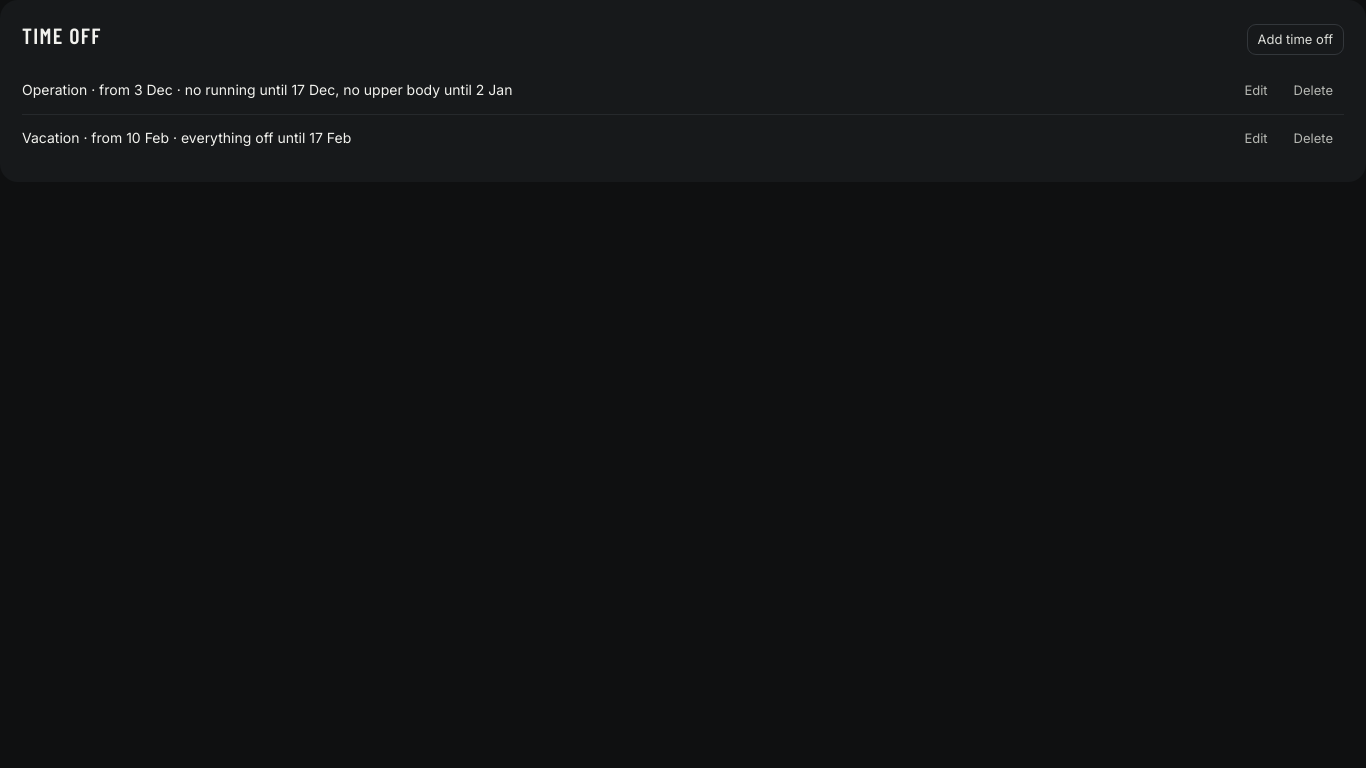
Test: TimeOffCard › asks for something to be off before saving
Click the button "Add time off" at (1295,39), box top-left (1246, 24), bottom-right (1344, 55)
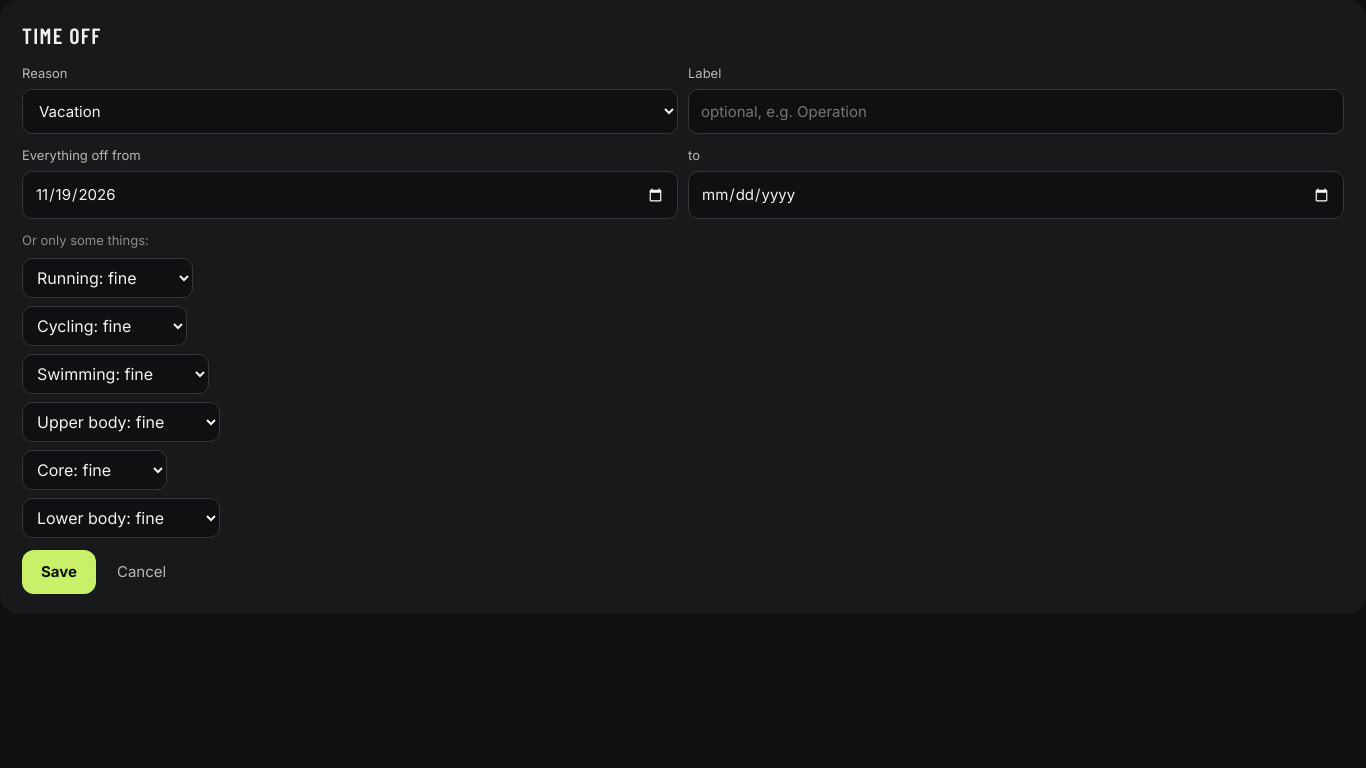
Select "Injury or operation" in the dropdown labelled "Reason" at (350,112), box top-left (22, 89), bottom-right (678, 134)
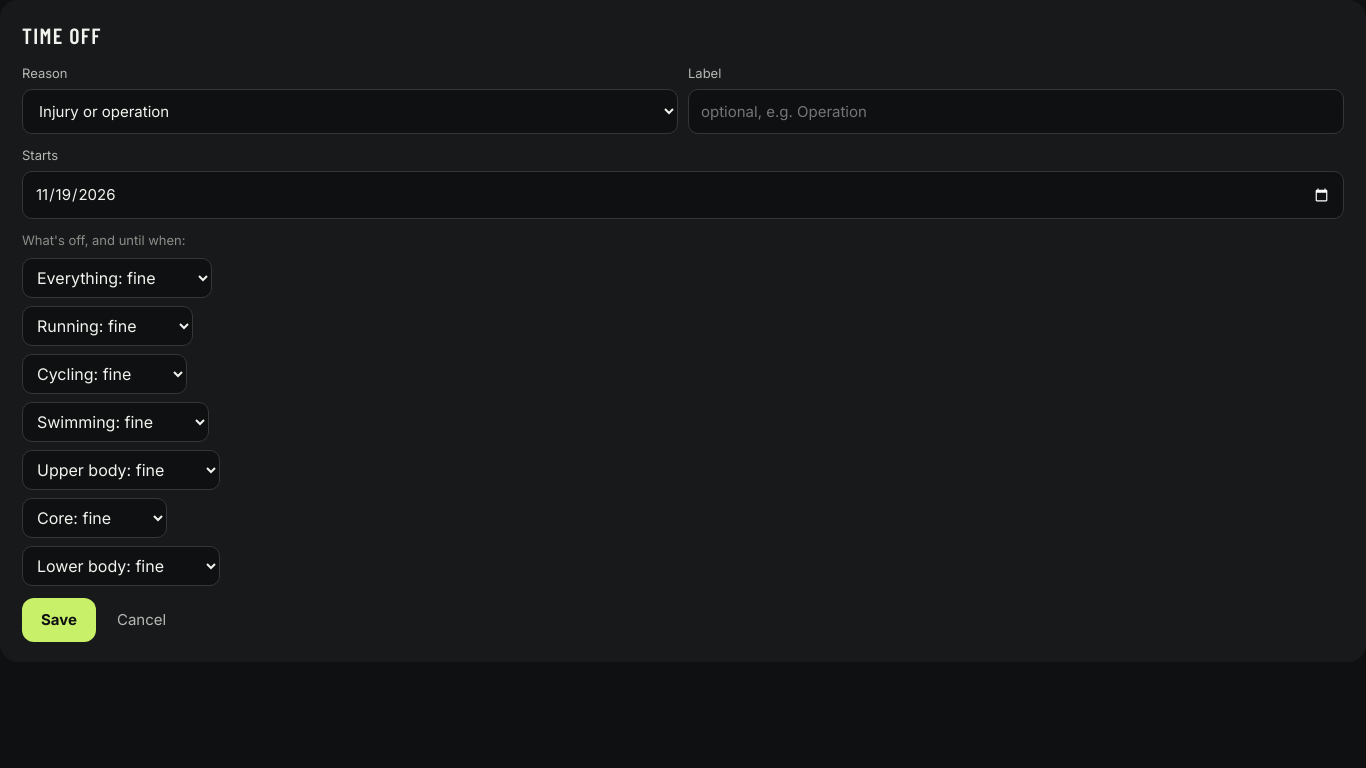
Click the button "Save" at (59,620), box top-left (22, 598), bottom-right (96, 642)
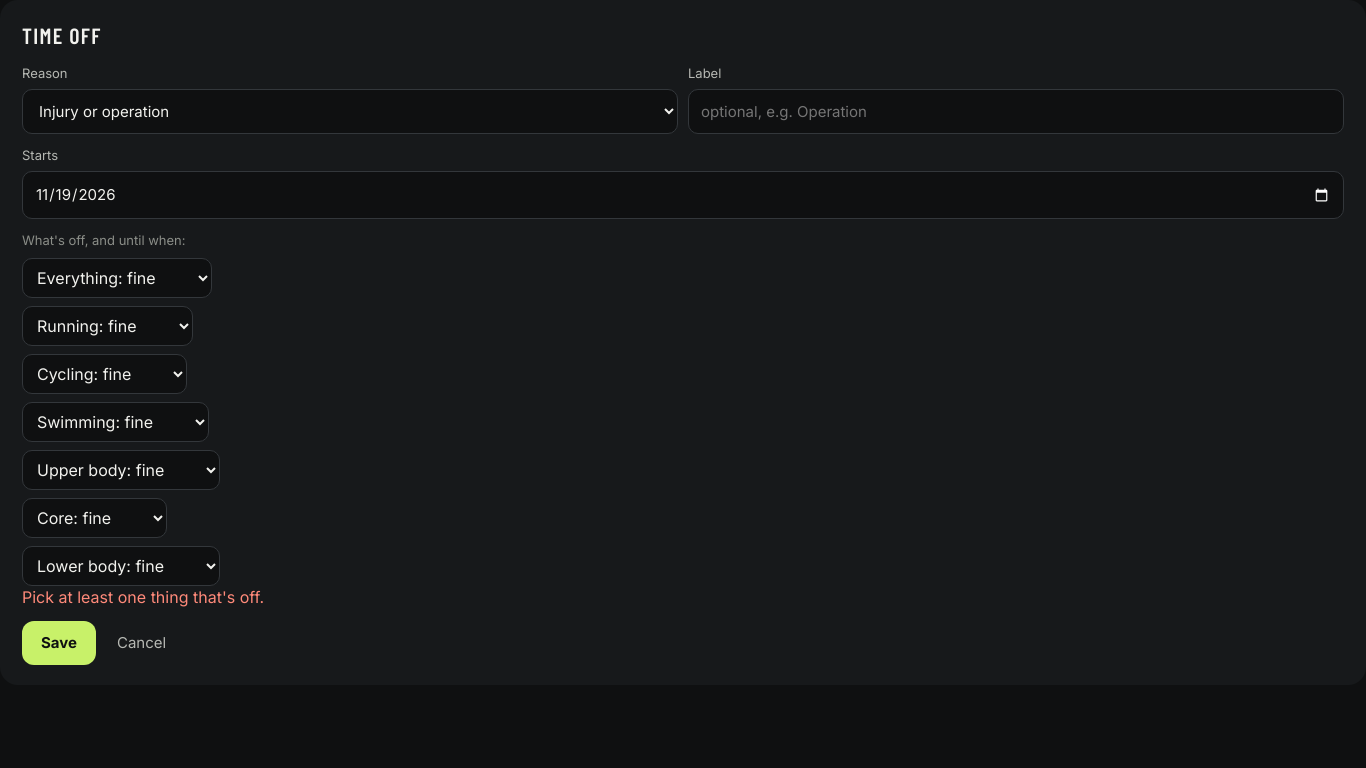
Now the message reads "Pick at least one thing that's off.", box top-left (22, 587), bottom-right (264, 607)
